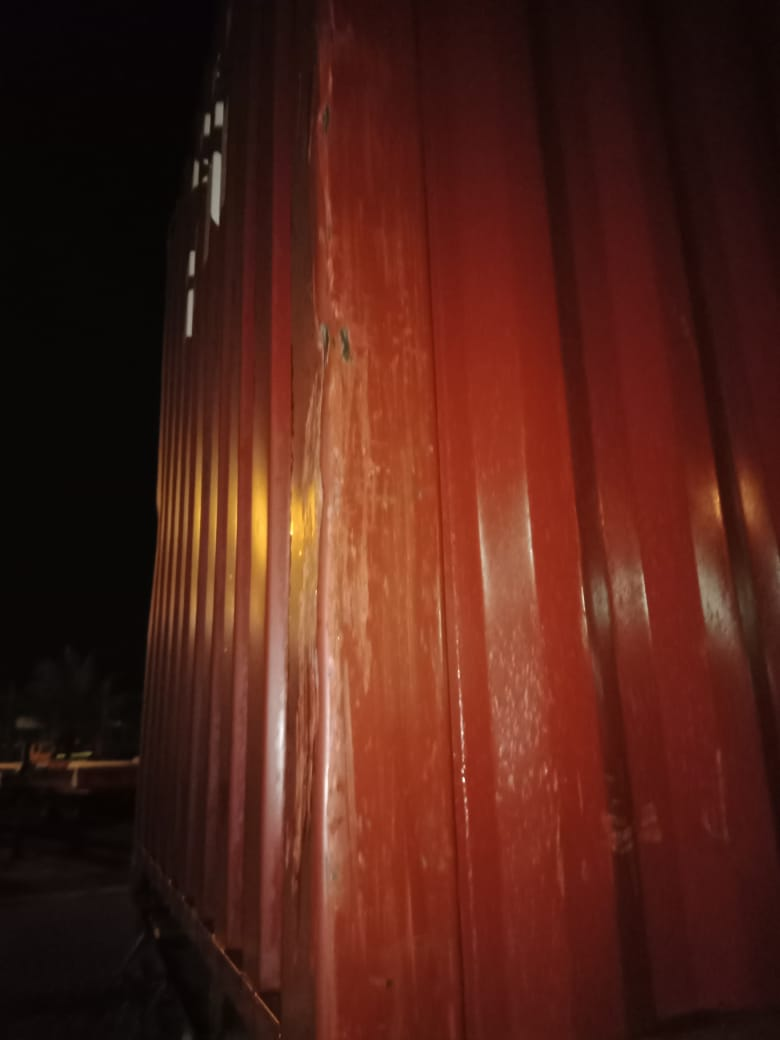dented: (249, 259, 390, 468)
